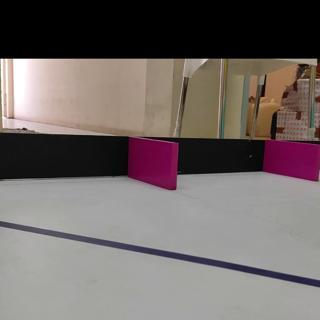xparking: (129, 139, 177, 188), (273, 143, 320, 180)
